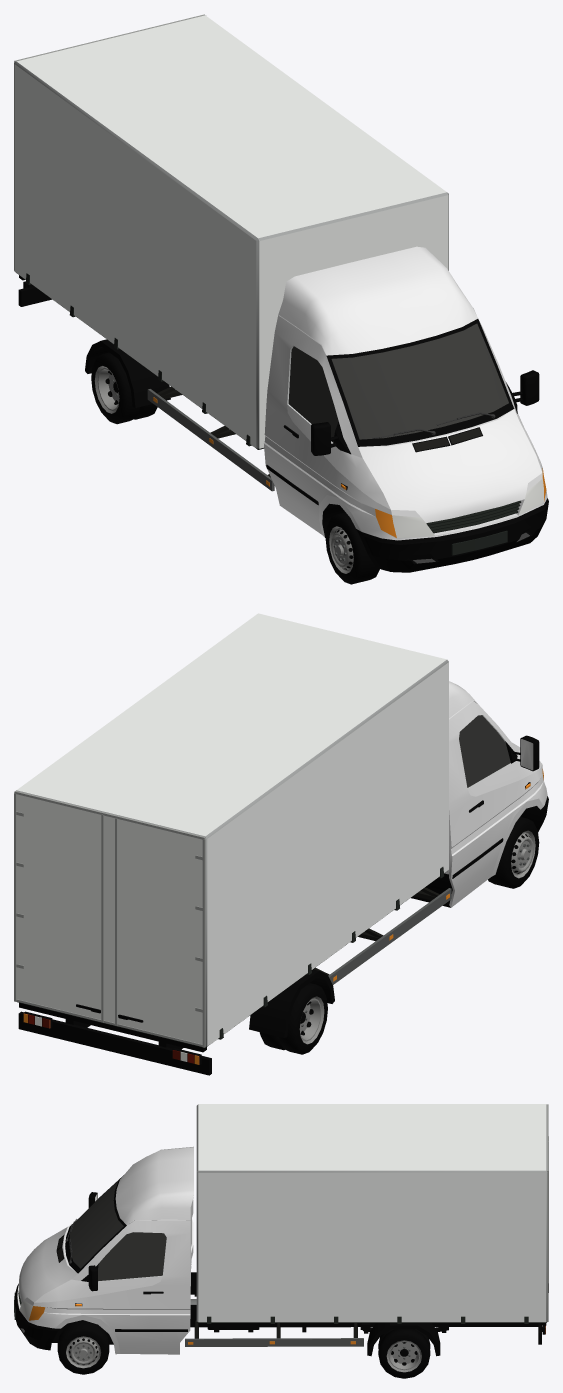
Rendered from car2.glb.
The picture shows the model from 3 angles, top to bottom: view 1: azimuth 30°, elevation 25°; view 2: azimuth 150°, elevation 25°; view 3: azimuth 270°, elevation 25°; orthographic projection. The views are drawn at different scales.
Parts seen in each view (by area): view 1: van.014, w.017, w.016; view 2: van.014, w.017, w.016; view 3: van.014, w.072, w.071.
Part boxes in pixels (box(x1,y1,x2,y2)): van.014: box(14, 14, 548, 572); w.017: box(91, 352, 157, 424); w.016: box(325, 512, 379, 584); van.014: box(14, 613, 548, 1075); w.017: box(259, 983, 327, 1054); w.016: box(488, 817, 539, 888); van.014: box(14, 1104, 548, 1356); w.072: box(57, 1321, 109, 1374); w.071: box(378, 1329, 430, 1378).
Size of the model in its own units: 2.52 by 3.06 by 7.19.
1 material, 1 textured.
